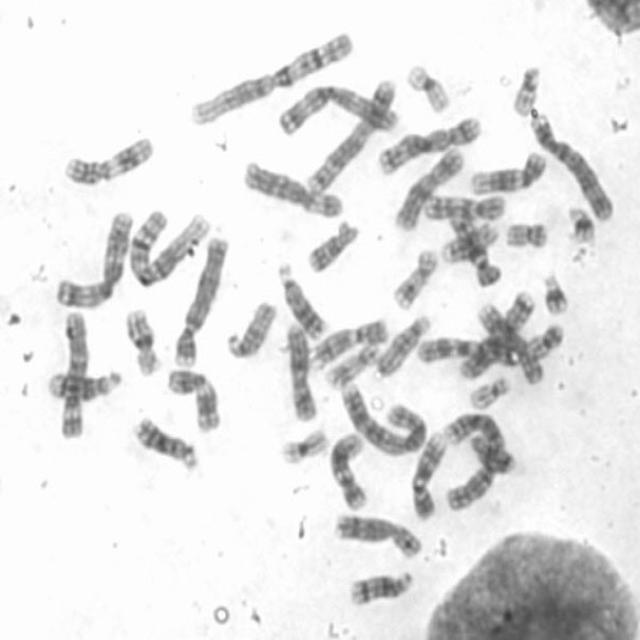A1: (188, 30, 354, 127), (127, 208, 214, 287)
A2: (338, 381, 428, 458), (443, 409, 506, 515)
A3: (54, 212, 137, 310), (275, 82, 399, 138)
B4: (528, 114, 616, 224), (172, 235, 229, 368)
B5: (305, 78, 398, 195), (376, 116, 484, 175)
C10: (444, 202, 504, 290), (423, 194, 507, 221)
C11: (61, 133, 154, 190), (167, 367, 221, 434)
C12: (468, 151, 549, 196), (328, 429, 368, 511)
C6: (242, 160, 344, 218), (57, 311, 90, 439)
C7: (460, 287, 536, 381), (417, 334, 522, 368)
C8: (472, 298, 545, 386), (332, 511, 423, 562)
C9: (409, 427, 449, 523), (312, 317, 388, 366)
D13: (276, 261, 330, 342), (130, 414, 200, 472)
D14: (348, 568, 418, 612), (44, 367, 125, 402)
D15: (372, 312, 433, 378), (223, 299, 279, 359)
E16: (440, 218, 500, 266), (124, 306, 162, 378)
E17: (322, 340, 383, 392), (389, 248, 437, 312)
E18: (304, 218, 357, 275), (469, 434, 518, 476)
F19: (406, 61, 452, 115), (279, 427, 329, 465)
F20: (526, 322, 565, 361), (503, 220, 550, 251)
G21: (565, 204, 599, 246), (543, 272, 569, 318)
G22: (511, 64, 543, 120), (469, 373, 511, 413)
X: (394, 147, 465, 232), (285, 321, 318, 424)
